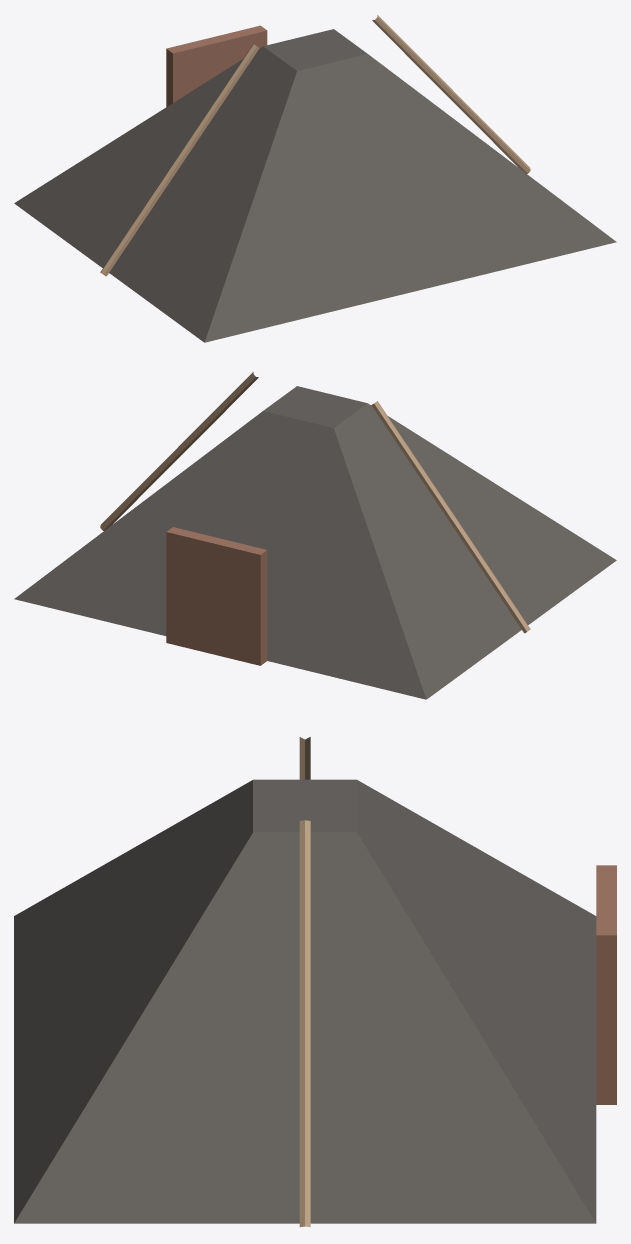
3 renders of one model, top to bottom at view 1: azimuth 30°, elevation 25°; view 2: azimuth 150°, elevation 25°; view 3: azimuth 270°, elevation 25°, orthographic. The views are drawn at different scales.
Parts seen in each view (by area): view 1: WB_larchBlackTent; view 2: WB_larchBlackTent; view 3: WB_larchBlackTent.
Part boxes in pixels (<box>): WB_larchBlackTent: <box>14,15,616,342</box>; WB_larchBlackTent: <box>14,372,616,699</box>; WB_larchBlackTent: <box>14,737,616,1227</box>.
Size of the model in its own units: 7.29 by 3.18 by 5.8.
